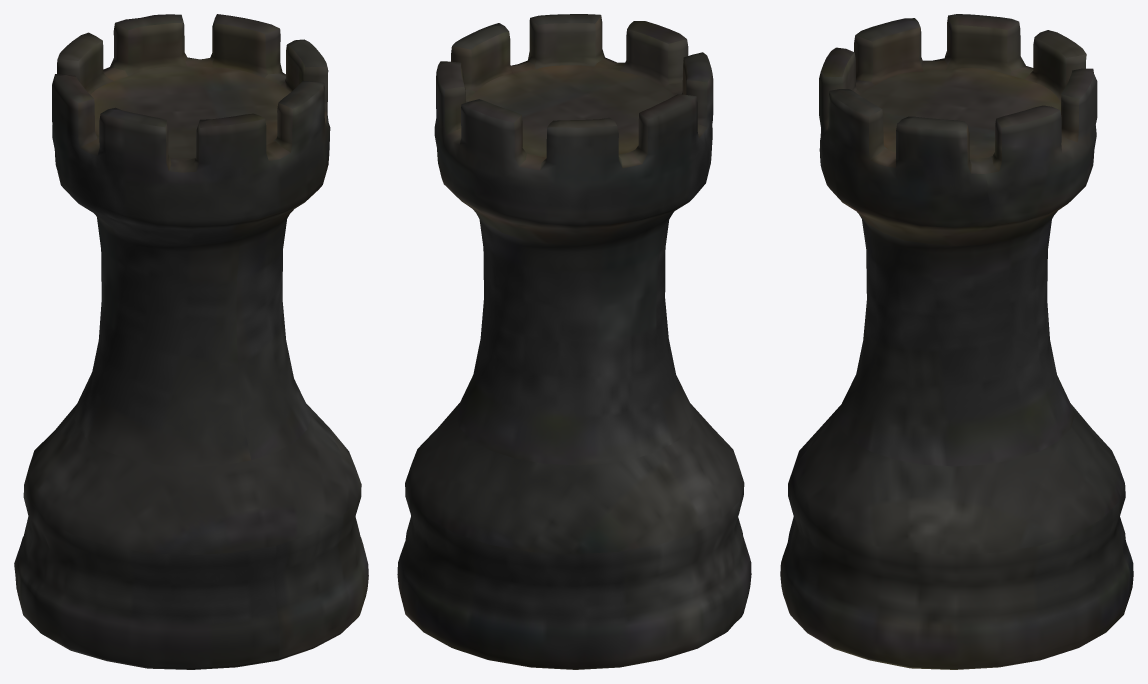
Rendered from rook_black.glb.
3 views of the same model, side by side, from view 1: azimuth 30°, elevation 25°; view 2: azimuth 150°, elevation 25°; view 3: azimuth 270°, elevation 25° (orthographic).
Visible parts, largest first — view 1: piece_rook_black_01; view 2: piece_rook_black_01; view 3: piece_rook_black_01.
Part boxes in pixels (x1,y1,x2,y2): piece_rook_black_01: (14, 14, 368, 669); piece_rook_black_01: (397, 14, 751, 669); piece_rook_black_01: (780, 14, 1133, 669).
Size of the model in its own units: 0.0368 by 0.0606 by 0.0367.
1 material, 1 textured.
